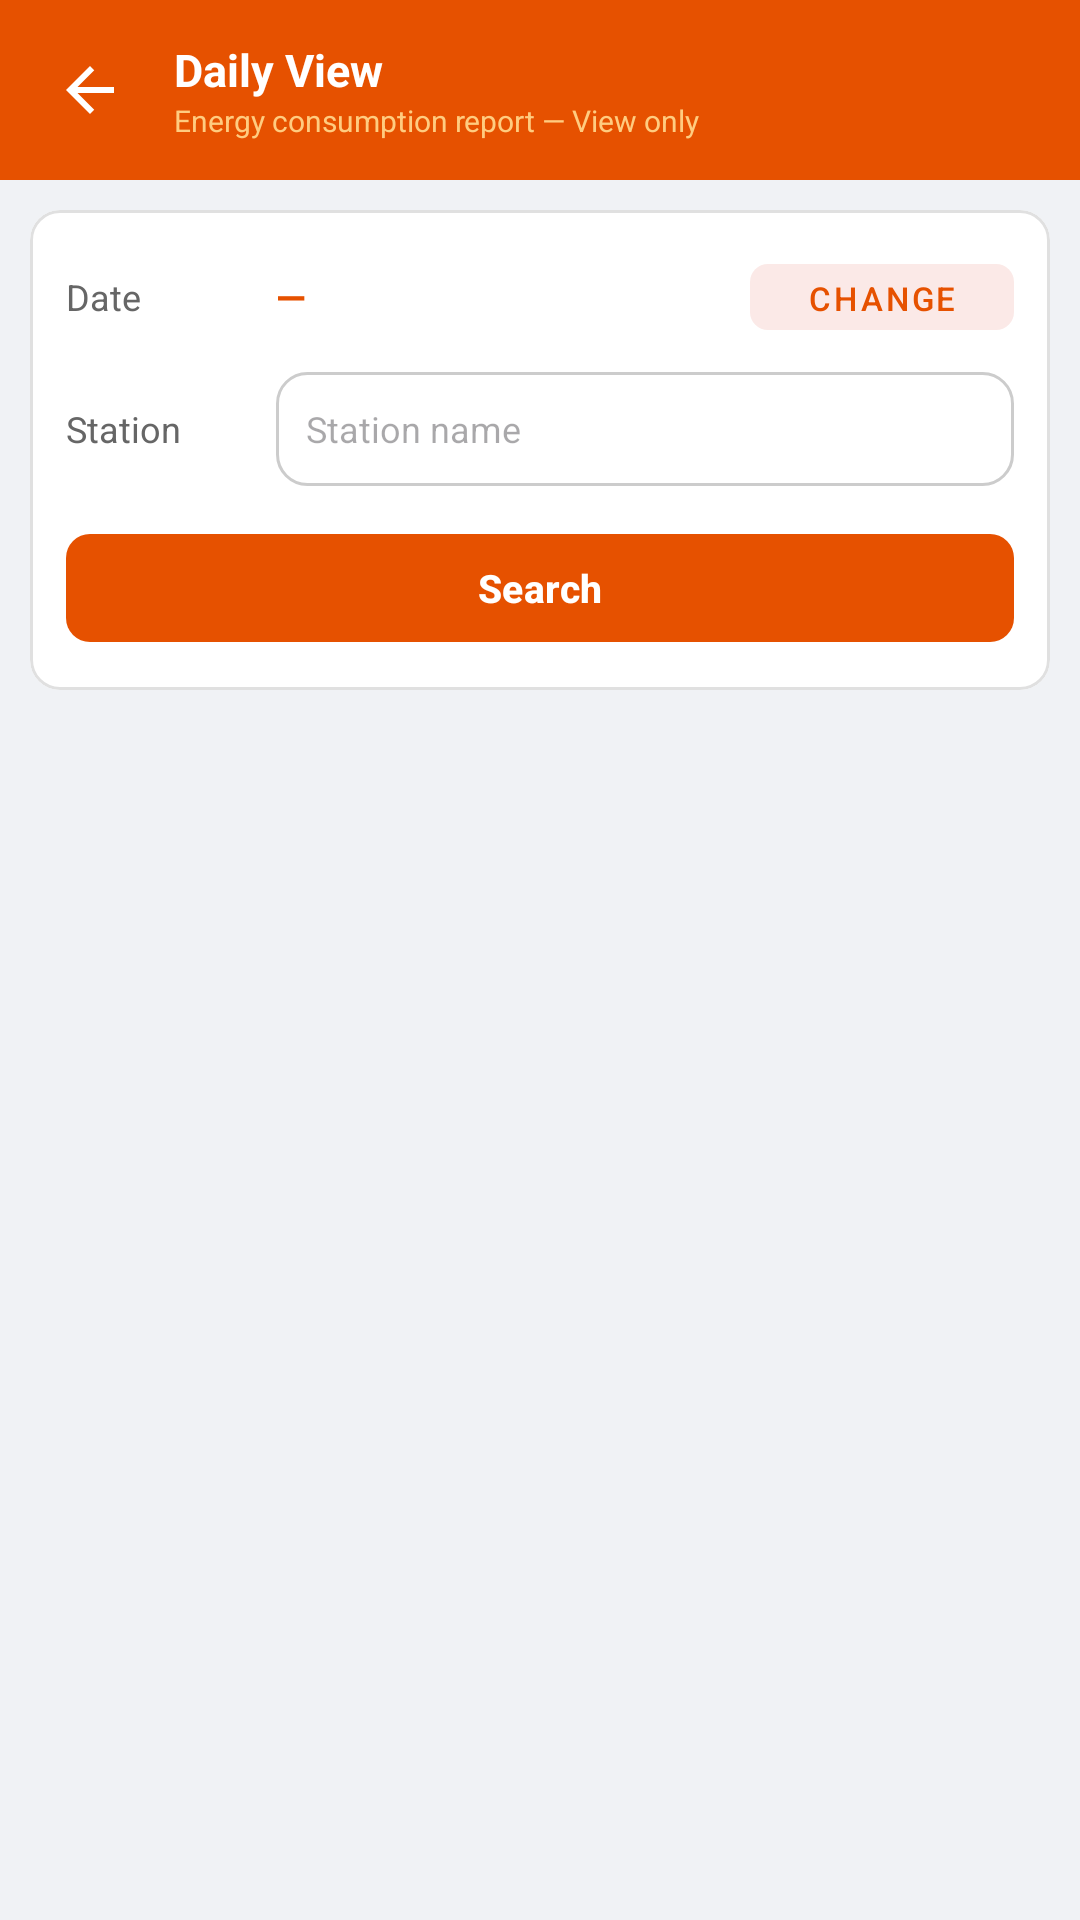

Icons on this 1080w x 1920h Android screen, each with its box as bbox=(x1, y1, x2, y2):
Back: bbox=(66, 66, 114, 114)
